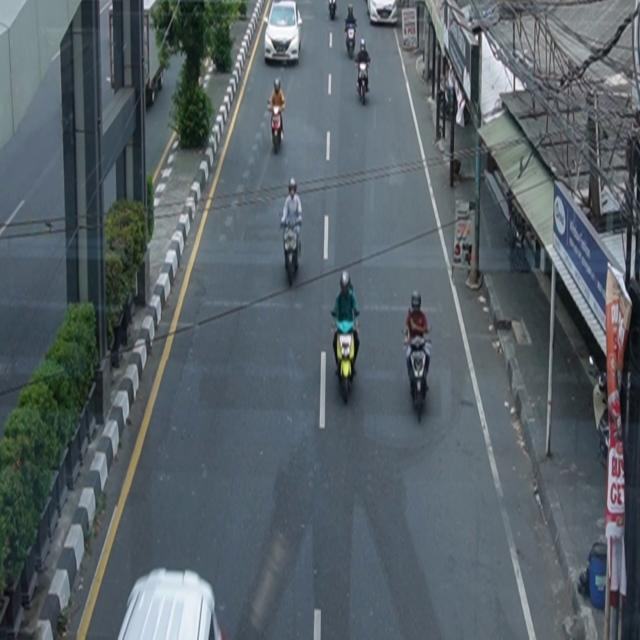car: (118, 568, 224, 640), (265, 1, 303, 66), (367, 1, 398, 26)
